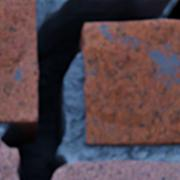brick: (83, 21, 179, 145), (0, 0, 37, 123)
broken_brick: (52, 161, 179, 179), (0, 142, 18, 179)
crack: (0, 0, 179, 179)
